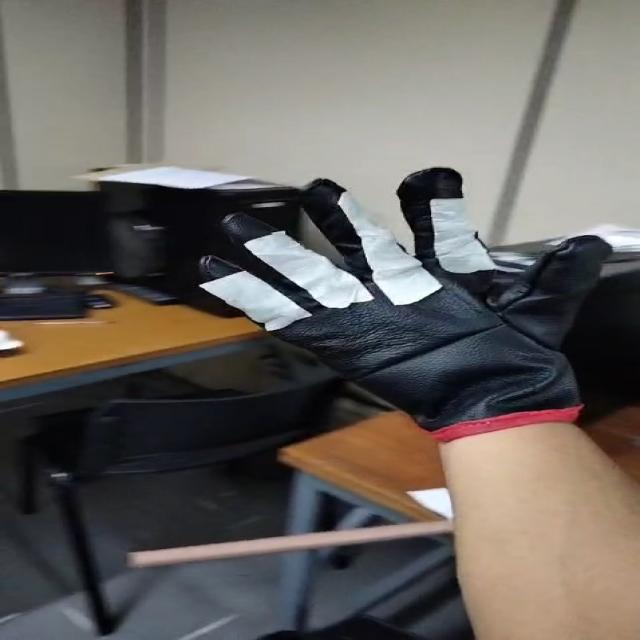Gloves: (194, 164, 619, 427)
